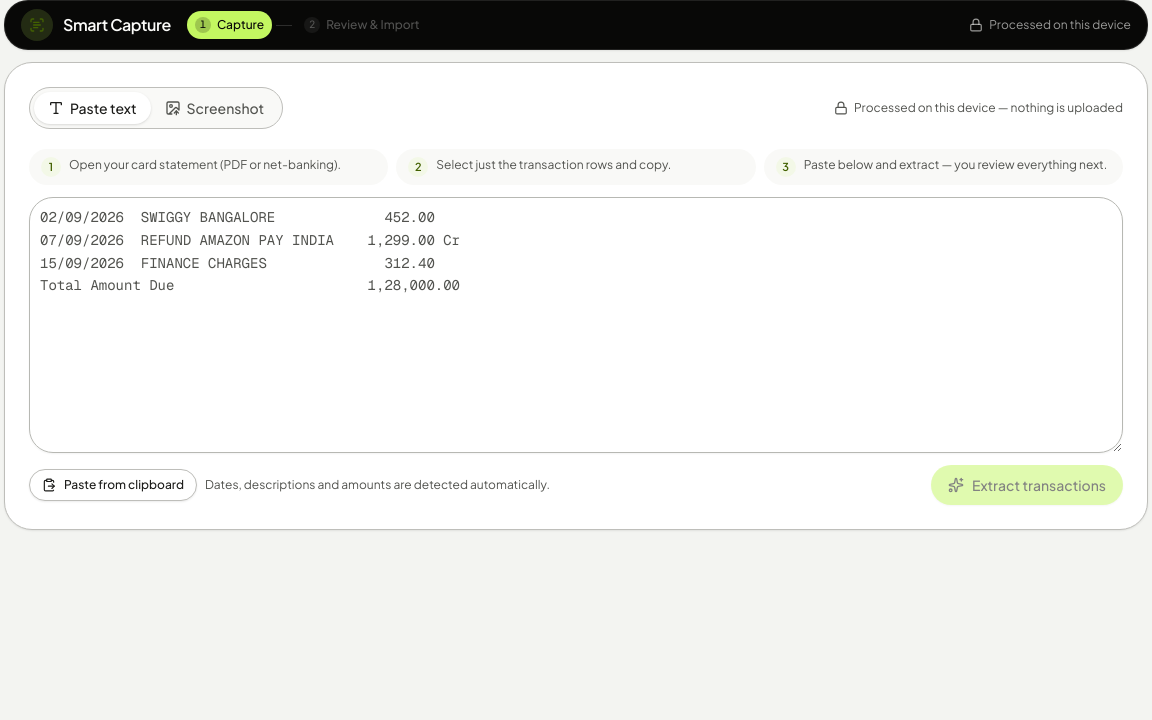
it: Capture → Review & Import › explains when nothing looks like a transaction, and hands nothing over
Step 1. Replace the text in the text box named "Pasted statement text" with "hello world" → (576, 325), box [29, 197, 1123, 453]
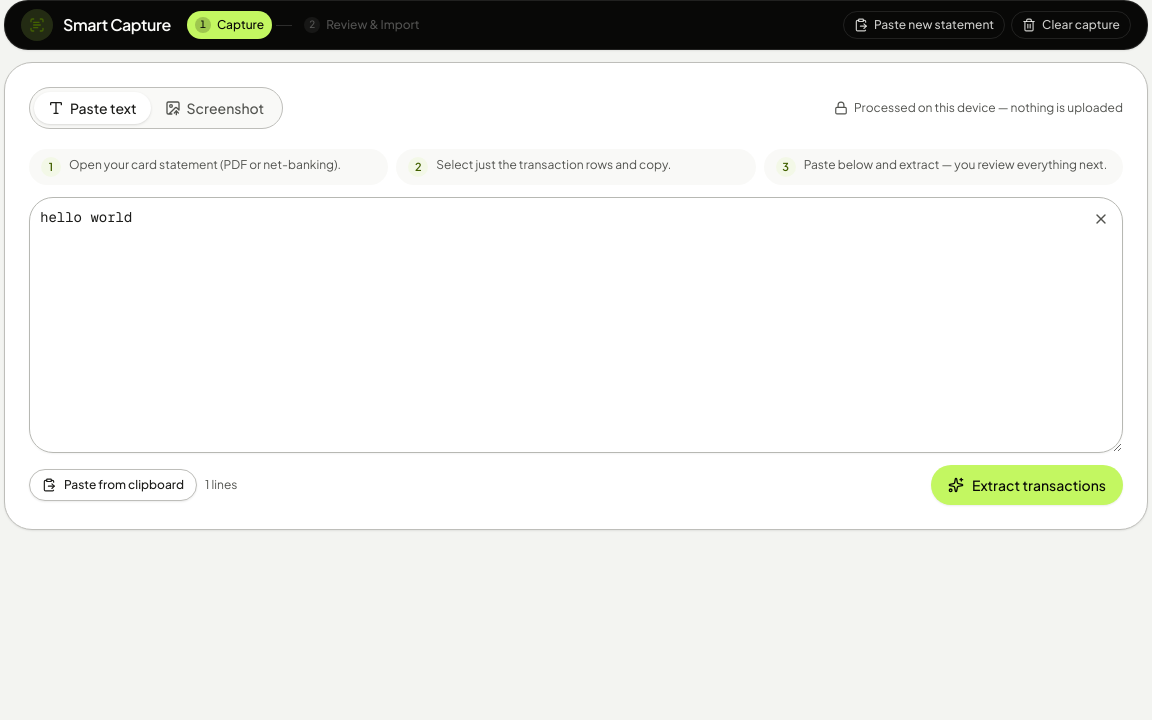
Step 2. Click the button "Extract transactions" → (1027, 485), box [931, 465, 1123, 505]
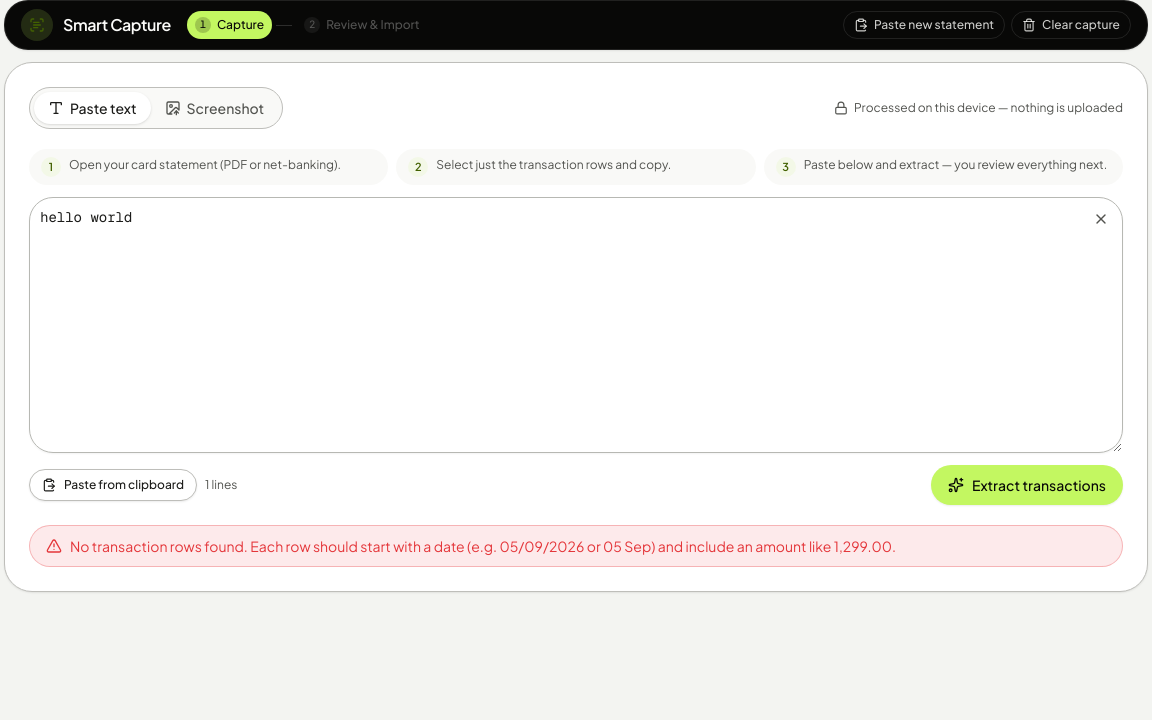
Expected: the message shows "No transaction rows found", [70, 537, 896, 555]
